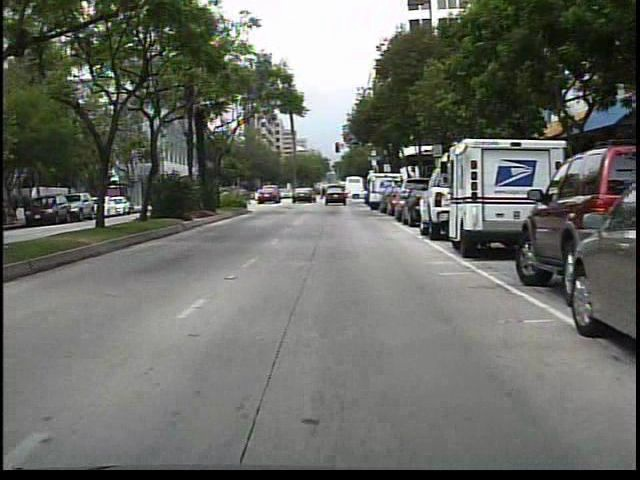person: (291, 182, 307, 206), (319, 183, 332, 203)
